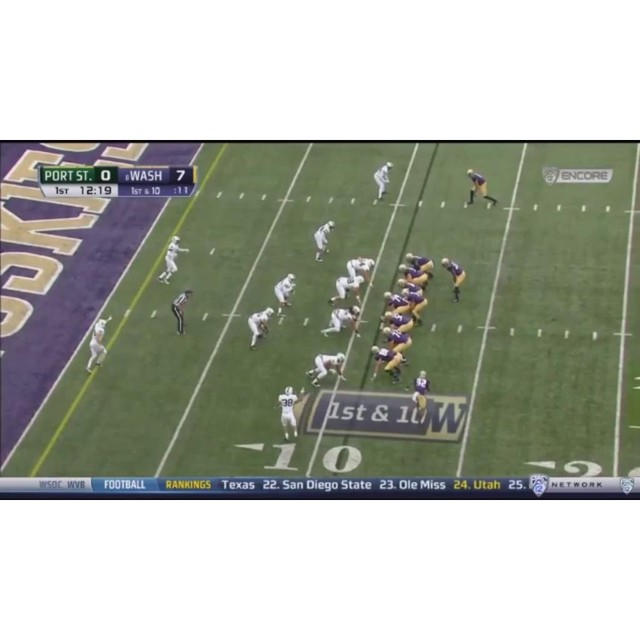american-football-player: (157, 236, 188, 285), (320, 305, 362, 339), (306, 353, 348, 387), (86, 315, 111, 372), (464, 168, 498, 209), (276, 386, 300, 443), (370, 345, 405, 384), (248, 306, 275, 350), (381, 325, 413, 362), (328, 275, 365, 307), (441, 255, 466, 302), (411, 369, 430, 422), (274, 273, 296, 317), (346, 256, 376, 288), (314, 219, 336, 262), (373, 160, 394, 204), (381, 311, 415, 334), (383, 291, 413, 317), (404, 252, 434, 276), (399, 264, 429, 288)
referee: (171, 288, 194, 335)
